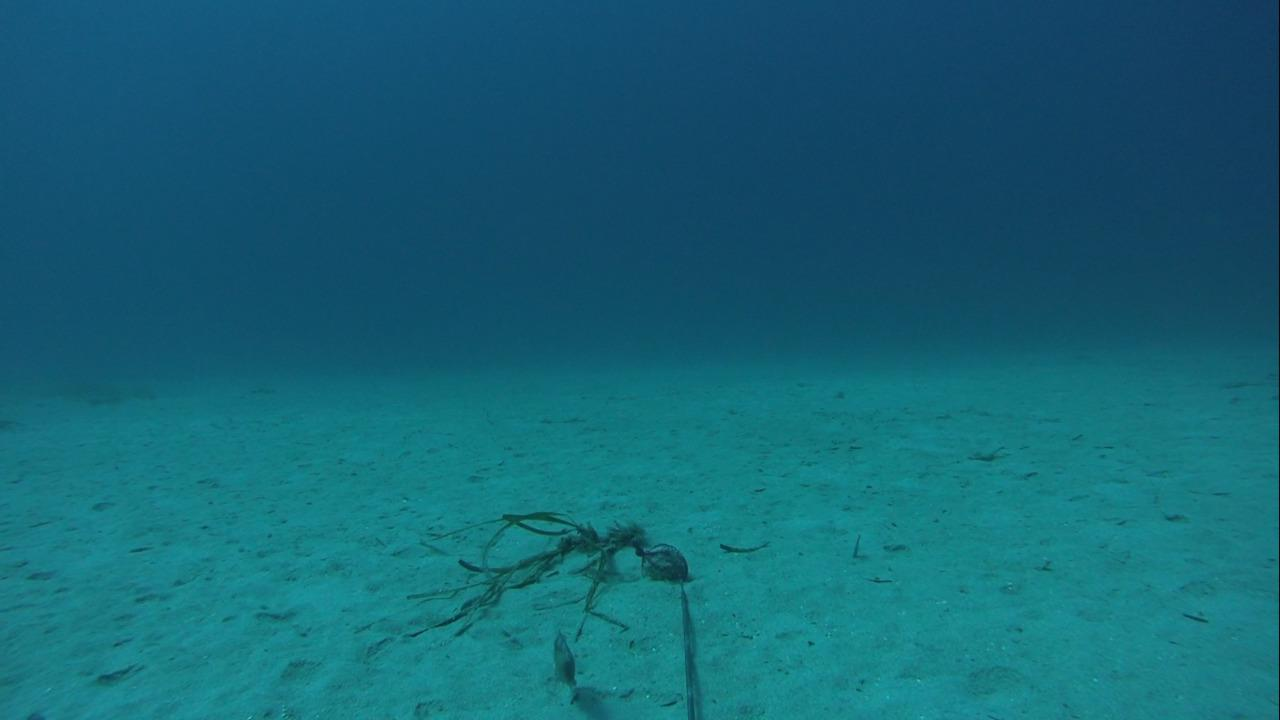raor: (539, 625, 588, 705)
